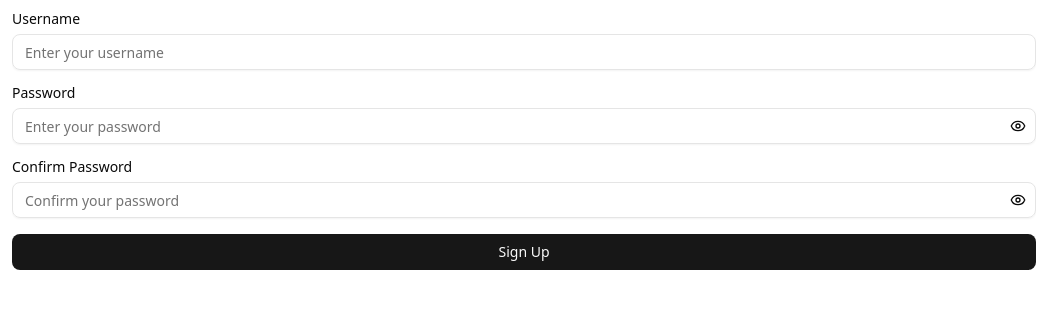
it: SignupForm › should show error when username is too short or too long
Type "ab" into the field labelled "Username" at (524, 52), box [12,34,1036,70]
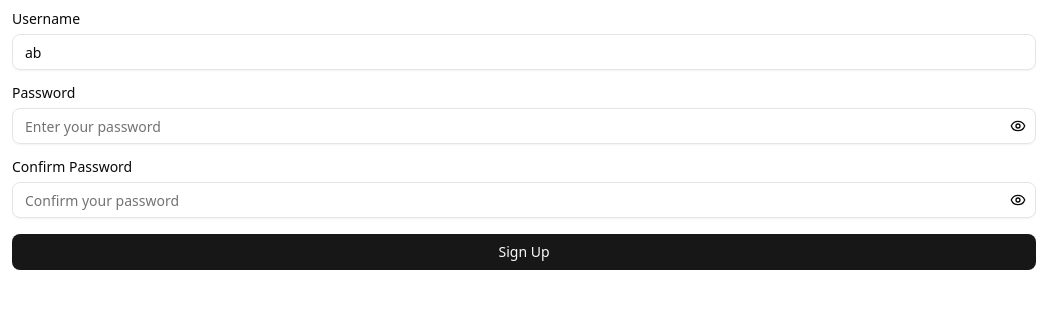
Type "password123" into the password field with placeholder "Enter your password" at (524, 126), box [12,108,1036,144]
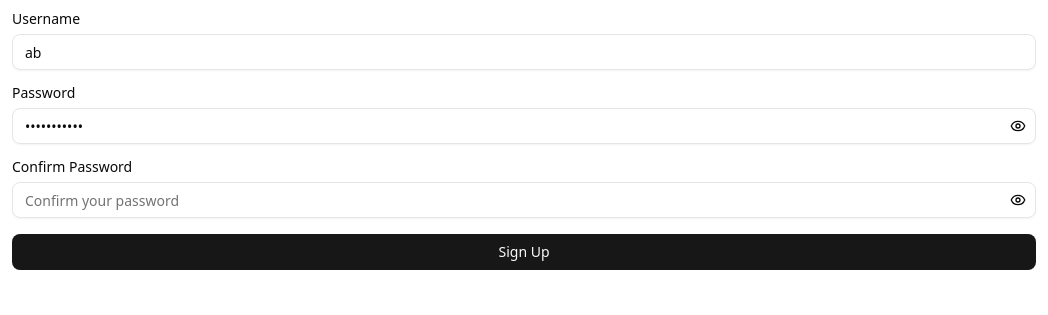
Type "password123" into the password field with placeholder "Confirm your password" at (524, 200), box [12,182,1036,218]
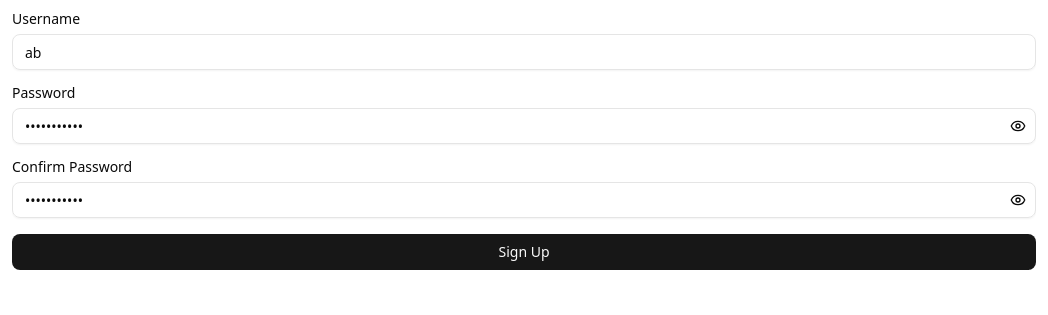
Click the button "Sign Up" at (524, 252), box [12,234,1036,270]
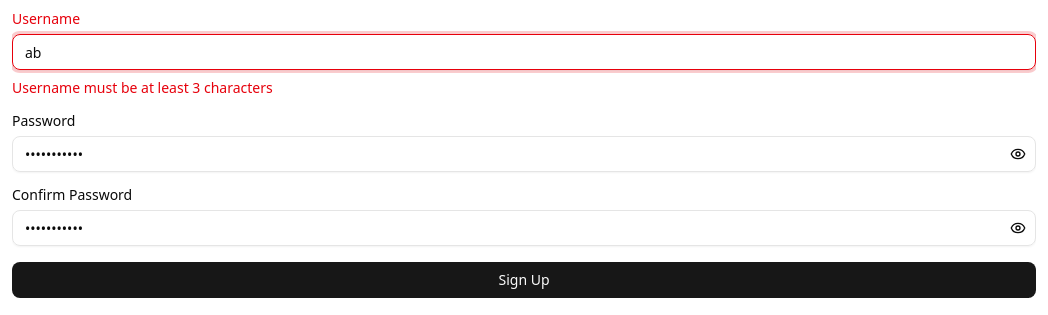
Expected: the text "Username must be at least 3 characters" is shown, [12,78,273,97]
